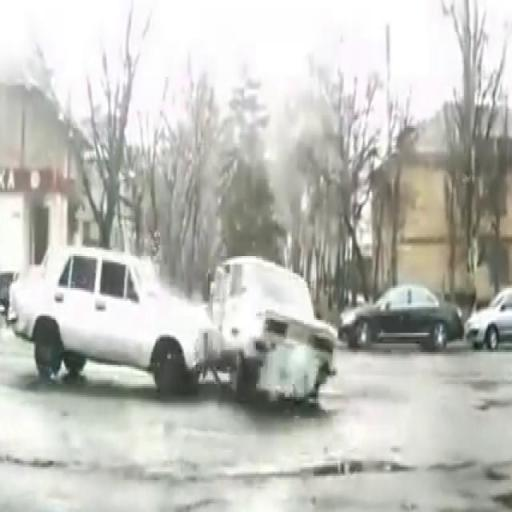小汽车: (335, 284, 464, 350), (468, 283, 512, 354)
小汽车撞小汽车: (15, 248, 336, 401)
